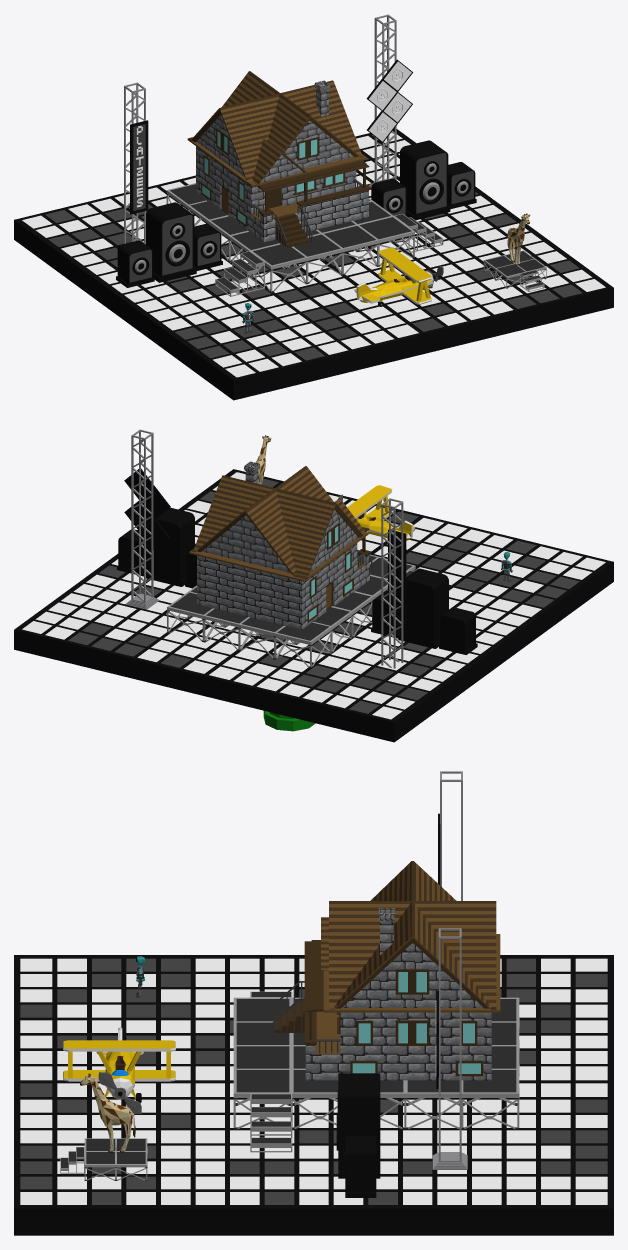
3 views of the same model, one above another, from view 1: azimuth 30°, elevation 25°; view 2: azimuth 150°, elevation 25°; view 3: azimuth 270°, elevation 25° (orthographic). The views are drawn at different scales.
Parts seen in each view (by area): view 1: Cube.008, Cube.586, VEHICLES_AIRPLANE, ANIMAL_JIRAFA; view 2: Cube.008, Cube.586, VEHICLES_AIRPLANE, UNDERGROUND_PIPES; view 3: Cube.008, Cube.586, VEHICLES_AIRPLANE, ANIMAL_JIRAFA.
Part boxes in pixels (bbox=[...]): Cube.008: bbox=[14, 14, 613, 400]; Cube.586: bbox=[187, 71, 371, 248]; VEHICLES_AIRPLANE: bbox=[354, 247, 443, 306]; ANIMAL_JIRAFA: bbox=[507, 213, 530, 265]; Cube.008: bbox=[14, 429, 613, 742]; Cube.586: bbox=[189, 461, 372, 629]; VEHICLES_AIRPLANE: bbox=[337, 485, 415, 544]; UNDERGROUND_PIPES: bbox=[263, 711, 315, 731]; Cube.008: bbox=[14, 771, 613, 1235]; Cube.586: bbox=[272, 861, 500, 1080]; VEHICLES_AIRPLANE: bbox=[63, 1027, 175, 1114]; ANIMAL_JIRAFA: bbox=[80, 1073, 135, 1152].
Bounding box in the file's own units: 4000 × 2555 × 4000.
42 materials, 2 textured.
